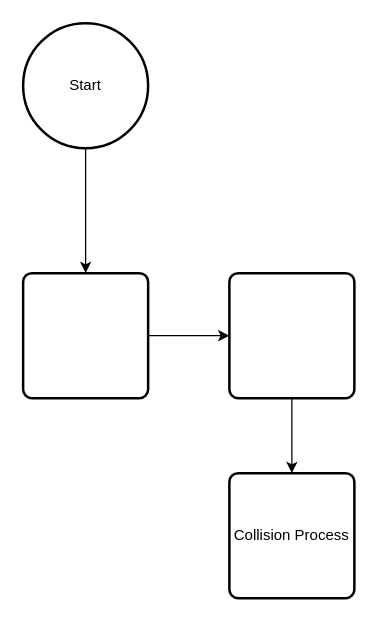
This 376x620 diagram has some shape labels left out. Here are the shapes that lost their labels. From the top down, the centre of each, then its label:
At point 85,335: "Initialize the agent, game strategy, movement strategy.".
At point 291,335: "Initialize the game and world.".
